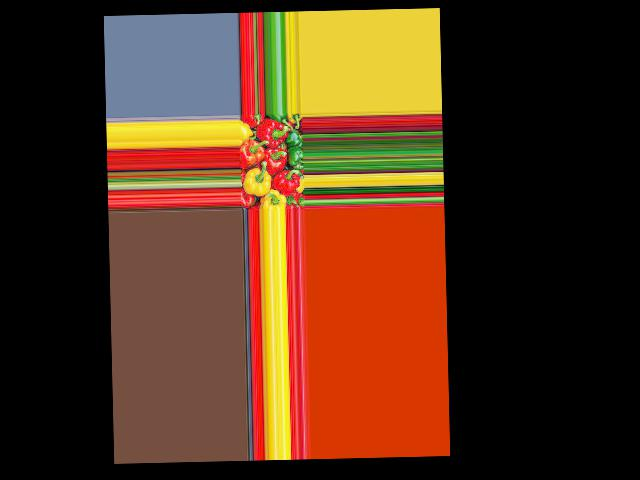bell_pepper: (238, 123, 251, 140)
